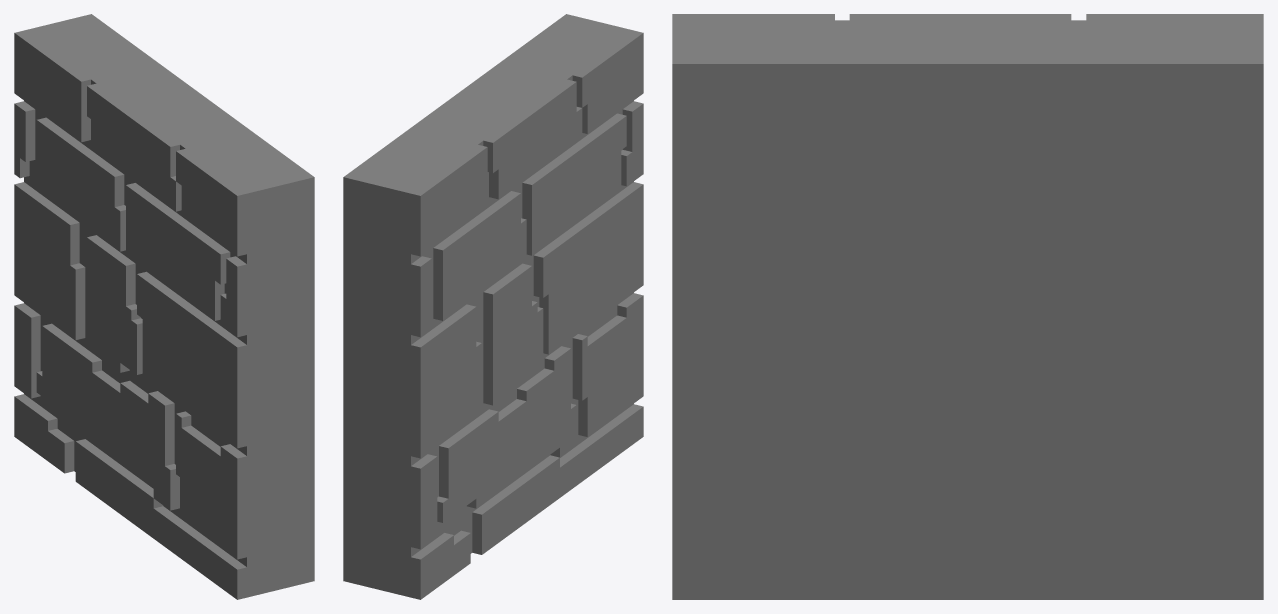
Rendered from wall.obj.
3 views of the same model, side by side, from view 1: azimuth 30°, elevation 25°; view 2: azimuth 150°, elevation 25°; view 3: azimuth 270°, elevation 25° (orthographic). The views are drawn at different scales.
Bounding box in the file's own units: 0.8 × 4 × 4.
1 material, 1 textured.
